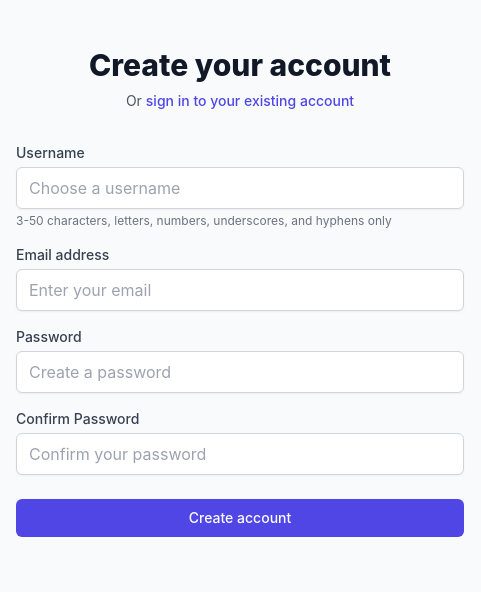
Test: Register Component › shows validation error for password mismatch
Type "testuser" into the field labelled "Username".
click(240, 188); type("testuser")  # box [16,167,464,209]
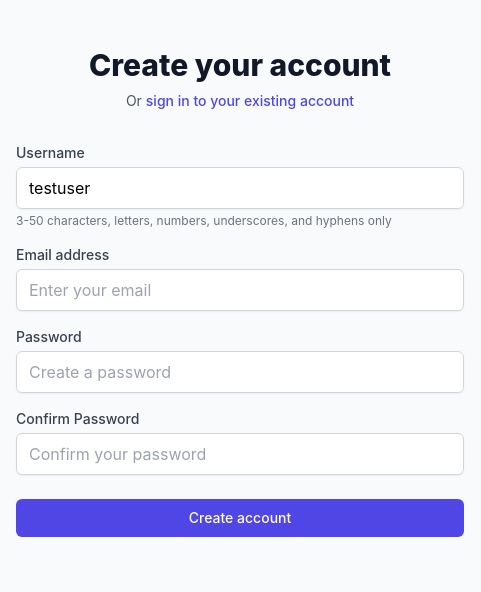
Type "test@example.com" into the field labelled "Email address".
click(240, 290); type("test@example.com")  # box [16,269,464,311]
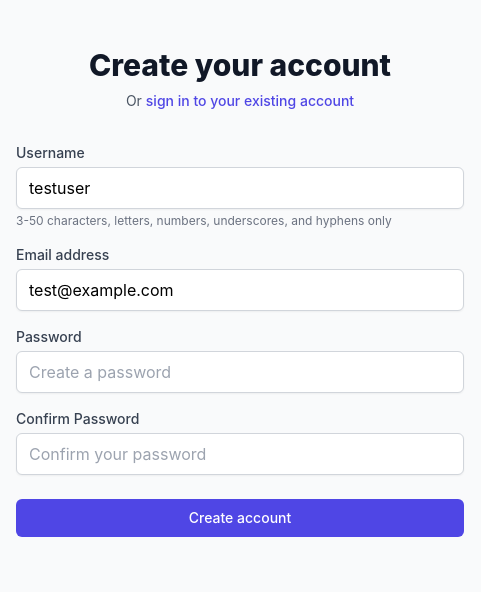
Type "password123" into the password field labelled "Password".
click(240, 372); type("password123")  # box [16,351,464,393]
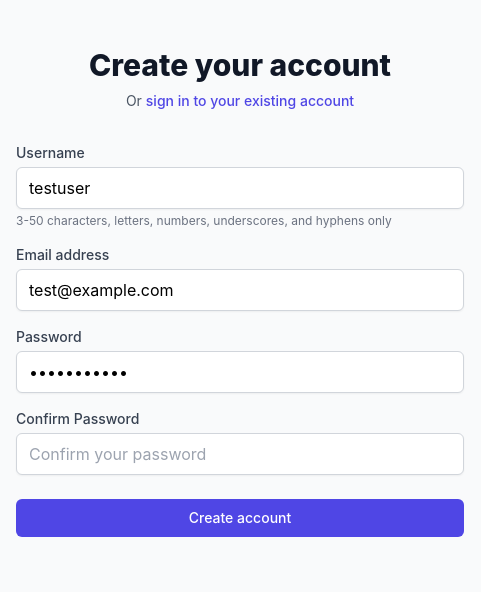
Type "differentpassword" into the password field labelled "Confirm Password".
click(240, 454); type("differentpassword")  # box [16,433,464,475]
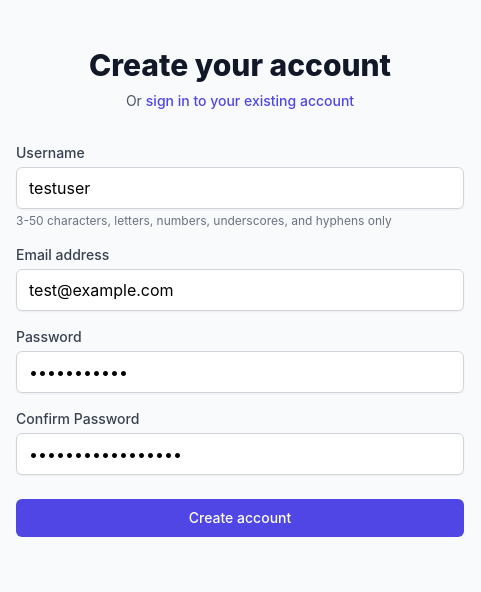
Click the button "Create account".
click(240, 518)  # box [16,499,464,537]
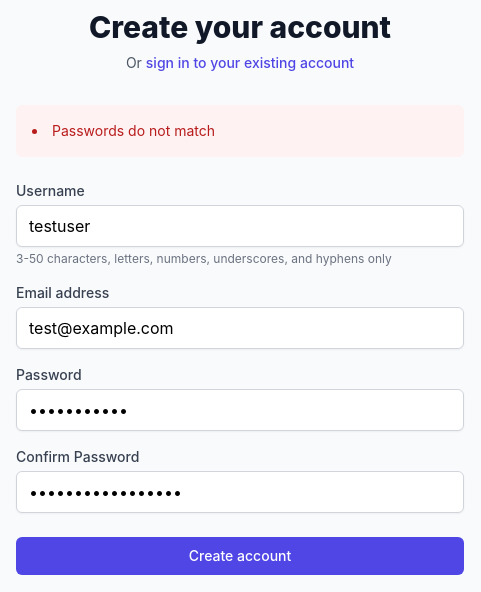
Expected: the list item "Passwords do not match" is shown, [52,122,215,139]
